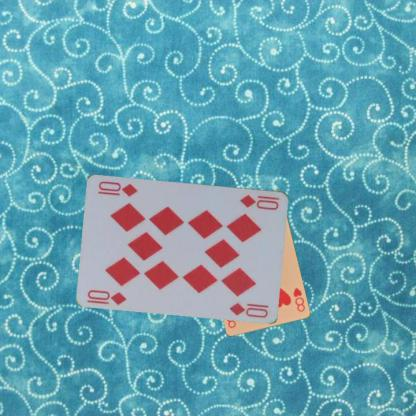10d: (84, 286, 128, 306), (237, 192, 281, 211)
8h: (290, 285, 306, 312)
